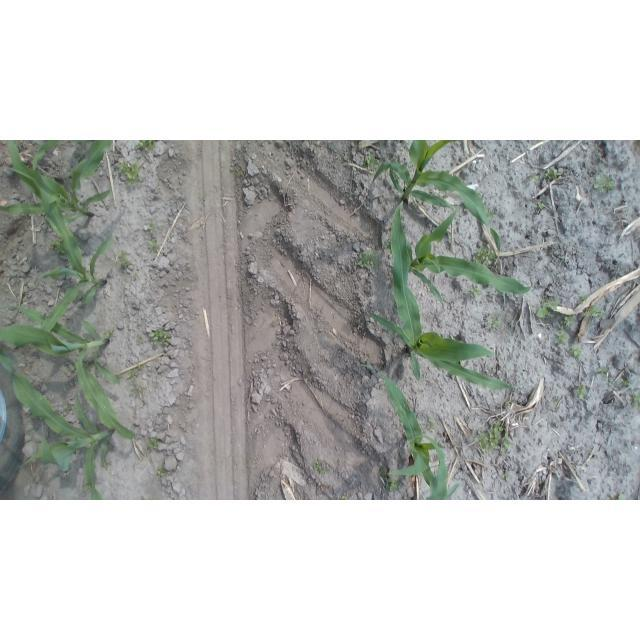Maize: (363, 199, 533, 395), (1, 302, 140, 440), (9, 165, 117, 332), (1, 347, 118, 500), (371, 141, 505, 255), (360, 364, 459, 501), (406, 205, 534, 310), (0, 140, 112, 228), (405, 433, 451, 500)
Weeds: (473, 419, 511, 458), (127, 369, 148, 399), (357, 247, 382, 271), (118, 162, 142, 187), (472, 245, 495, 268), (148, 327, 172, 349), (535, 299, 559, 320), (594, 175, 617, 194), (311, 459, 329, 479), (463, 284, 485, 300), (47, 238, 66, 256), (583, 305, 605, 319), (543, 165, 562, 181), (364, 154, 380, 172), (147, 220, 165, 236), (117, 252, 133, 269), (135, 140, 157, 152), (146, 437, 162, 452), (574, 383, 588, 399), (554, 332, 570, 346), (485, 315, 501, 329), (156, 463, 170, 478), (385, 479, 400, 493), (561, 316, 576, 330), (568, 344, 585, 356), (81, 479, 96, 492), (425, 417, 440, 430), (631, 390, 640, 411), (145, 240, 162, 250), (594, 364, 608, 376), (535, 199, 547, 211), (141, 494, 164, 500), (528, 171, 539, 182), (102, 460, 114, 470), (63, 403, 75, 413), (502, 472, 514, 482), (614, 492, 628, 500), (136, 335, 147, 345), (622, 379, 633, 389), (379, 466, 388, 478), (579, 295, 590, 304), (606, 376, 614, 388), (502, 402, 512, 411), (551, 397, 561, 406), (587, 448, 596, 457), (104, 329, 112, 339), (136, 363, 145, 371), (338, 493, 348, 500), (132, 272, 138, 276)
